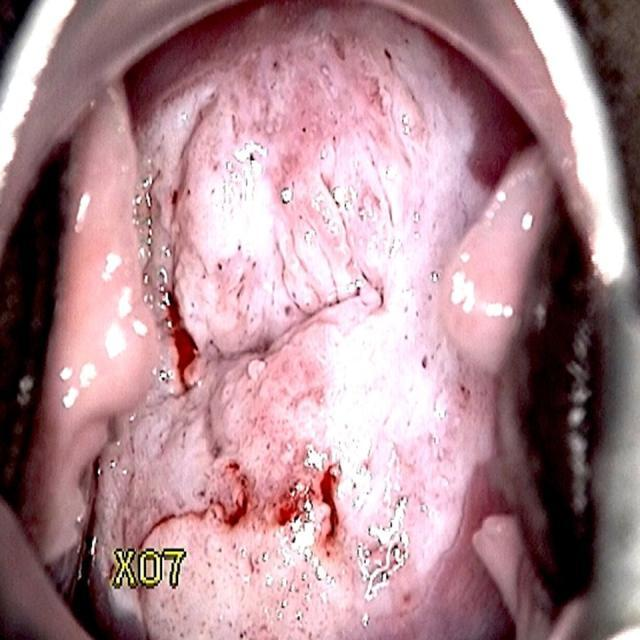cervical_lesion: (37, 43, 487, 640)
